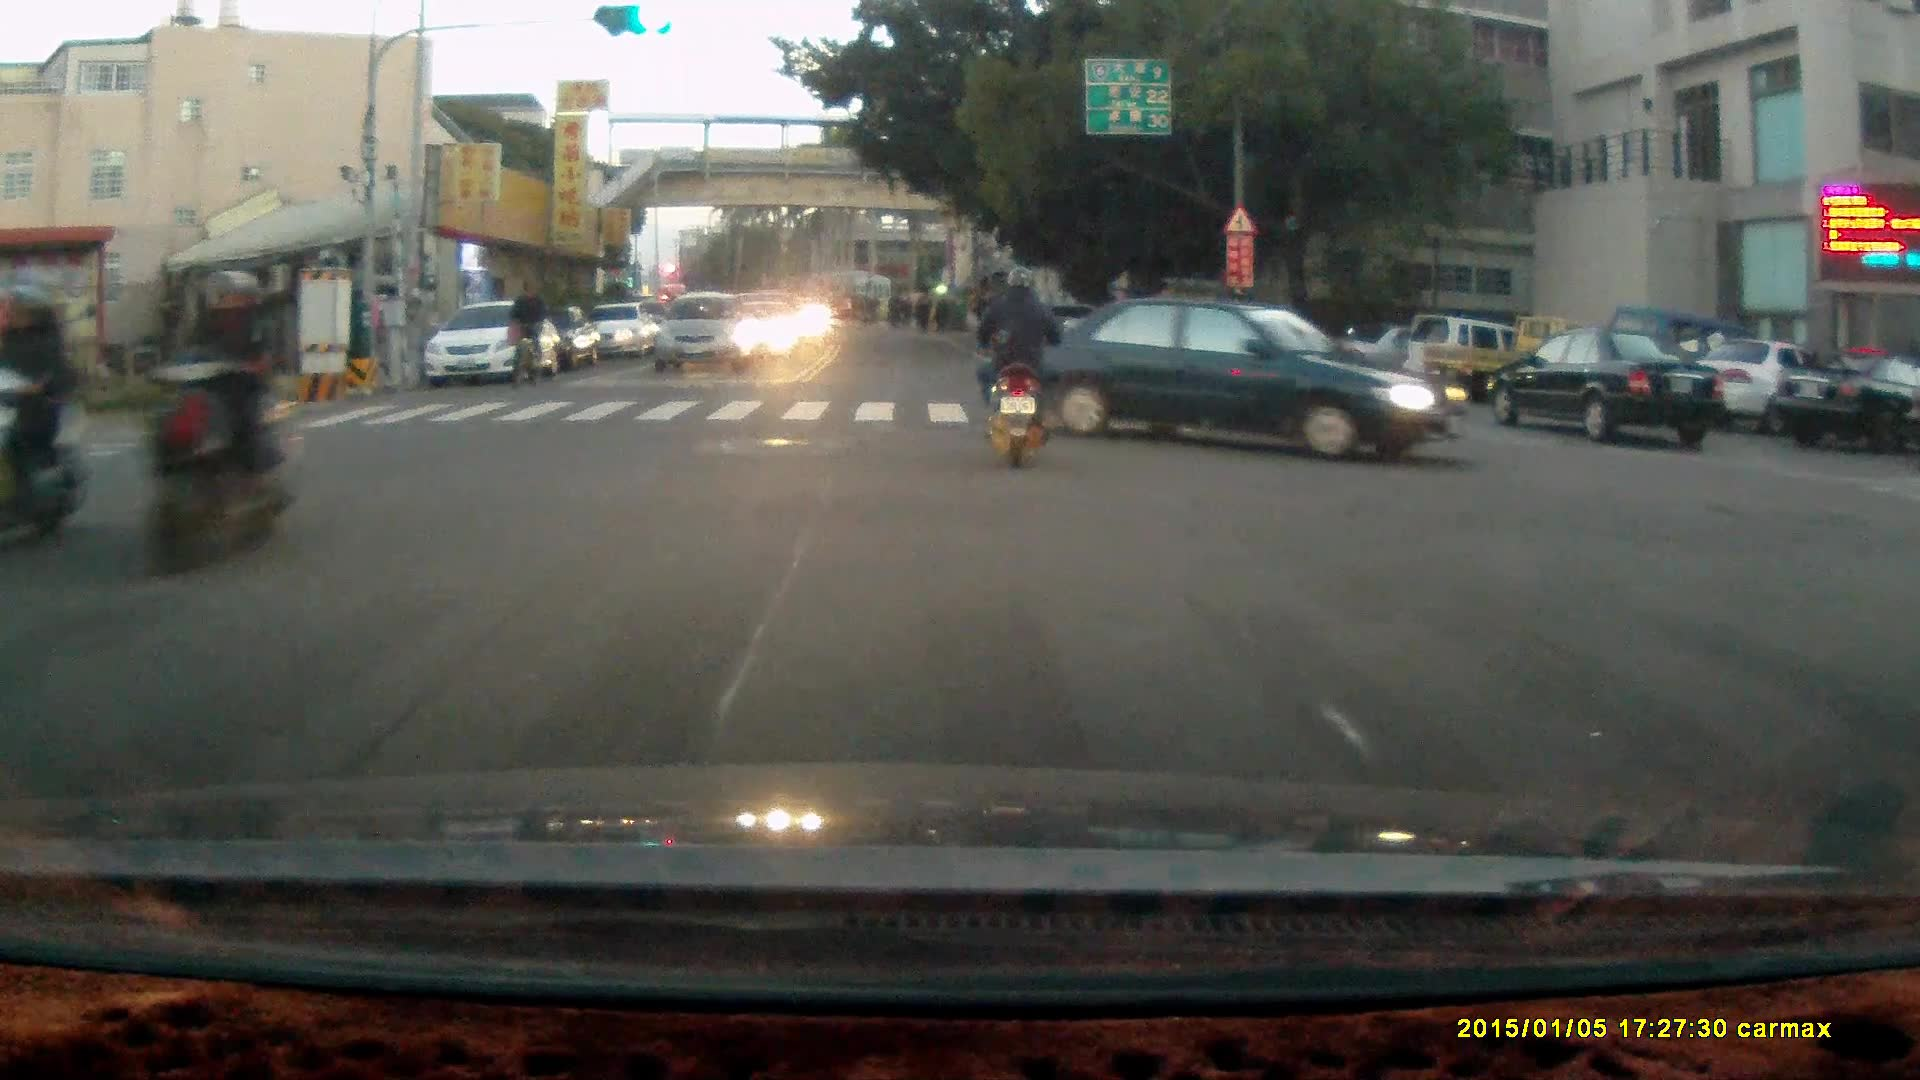rider: (135, 265, 295, 584), (0, 271, 84, 552), (972, 265, 1065, 468), (505, 278, 546, 385)
vehicle: (991, 289, 1462, 468), (1493, 329, 1727, 451), (1411, 316, 1634, 409), (1675, 337, 1865, 439), (1771, 352, 1920, 454), (423, 293, 564, 384), (652, 293, 760, 375)
